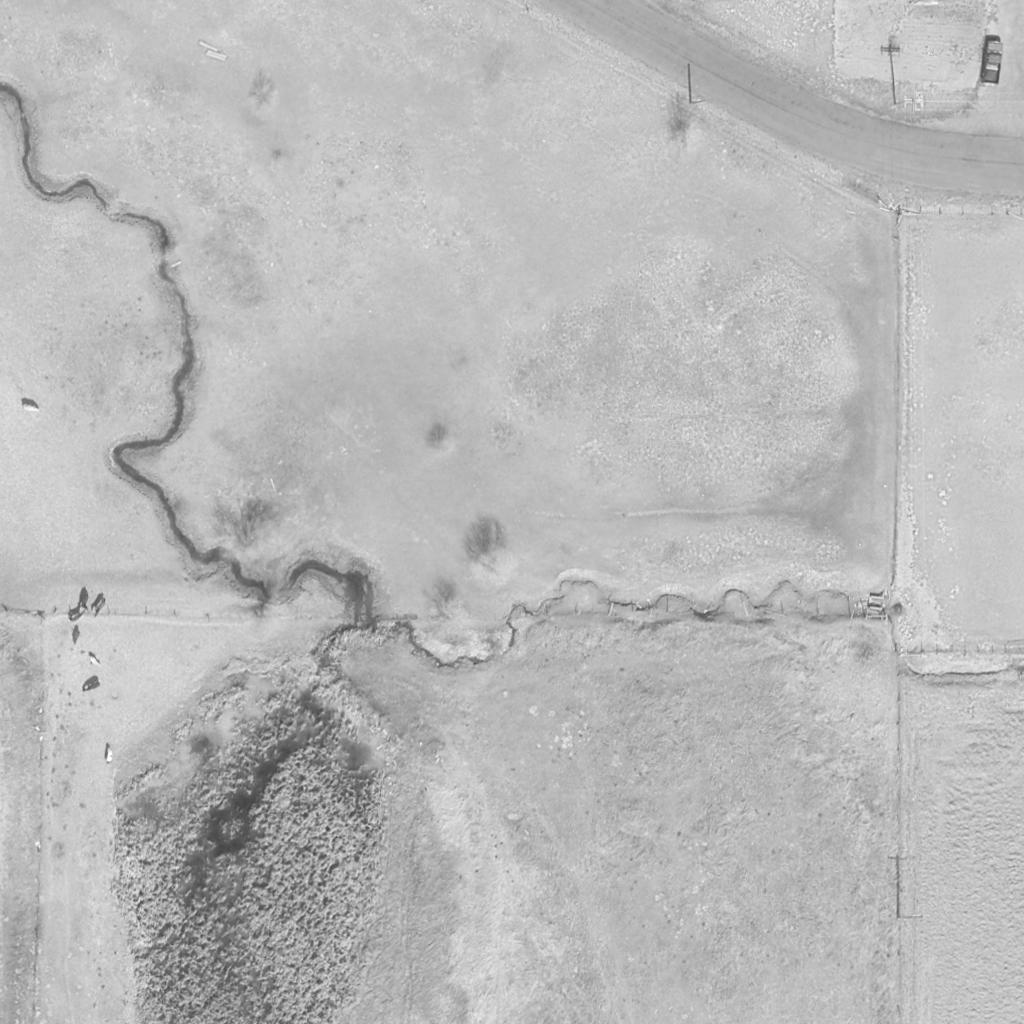vehicle: (979, 42, 1005, 86)
